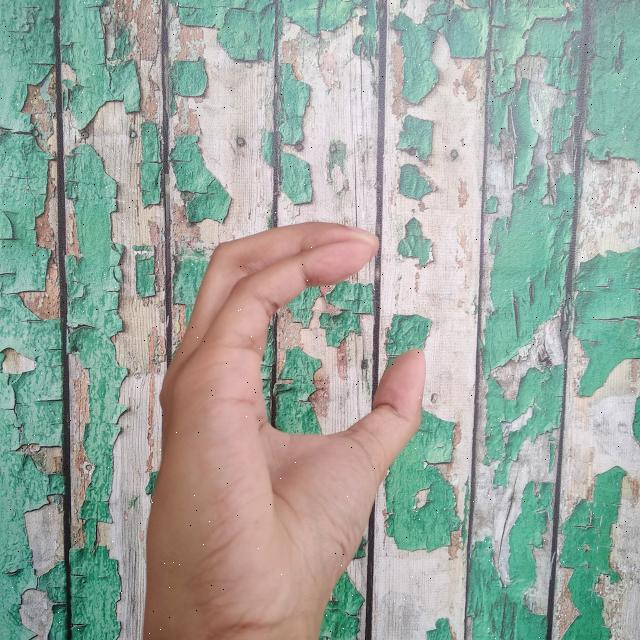C: (145, 215, 431, 640)
